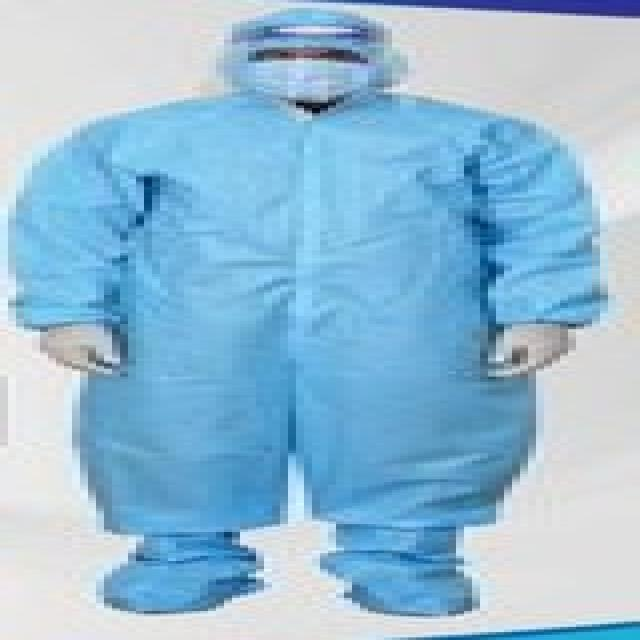Coverall: (0, 8, 616, 619)
Gloves: (24, 322, 144, 379), (472, 319, 568, 379)
Mask: (232, 56, 376, 98)
